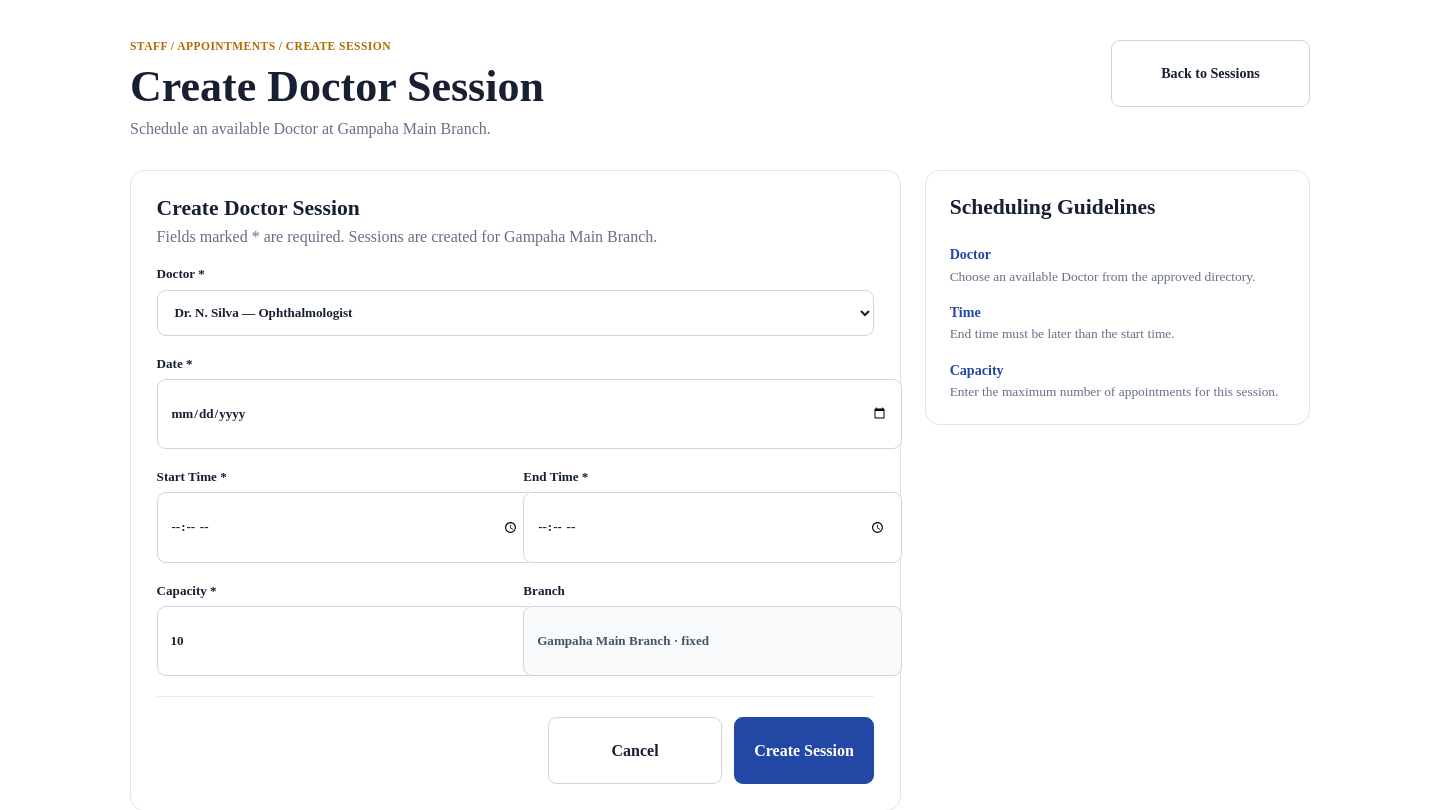
Test: StaffCreateDoctorSessionPage › shows Doctor overlap conflicts without claiming success
This screenshot has width=1440, height=810.
Step 1. Type "2026-10-20" into the date field labelled "Date *" → (529, 414), box 157,379 -> 902,449
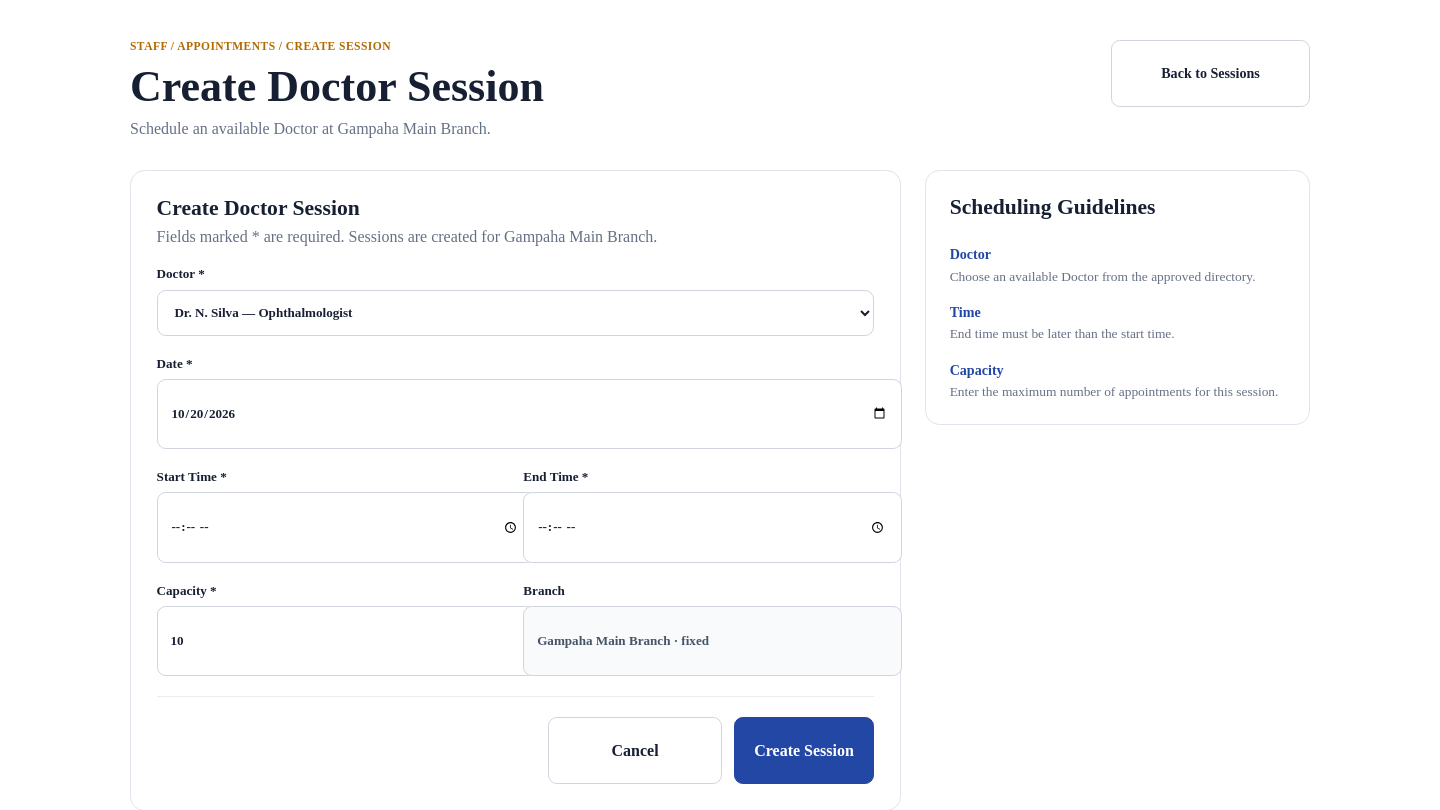
Step 2. Type "13:00" into the time field labelled "Start Time *" → (346, 528), box 157,492 -> 535,563
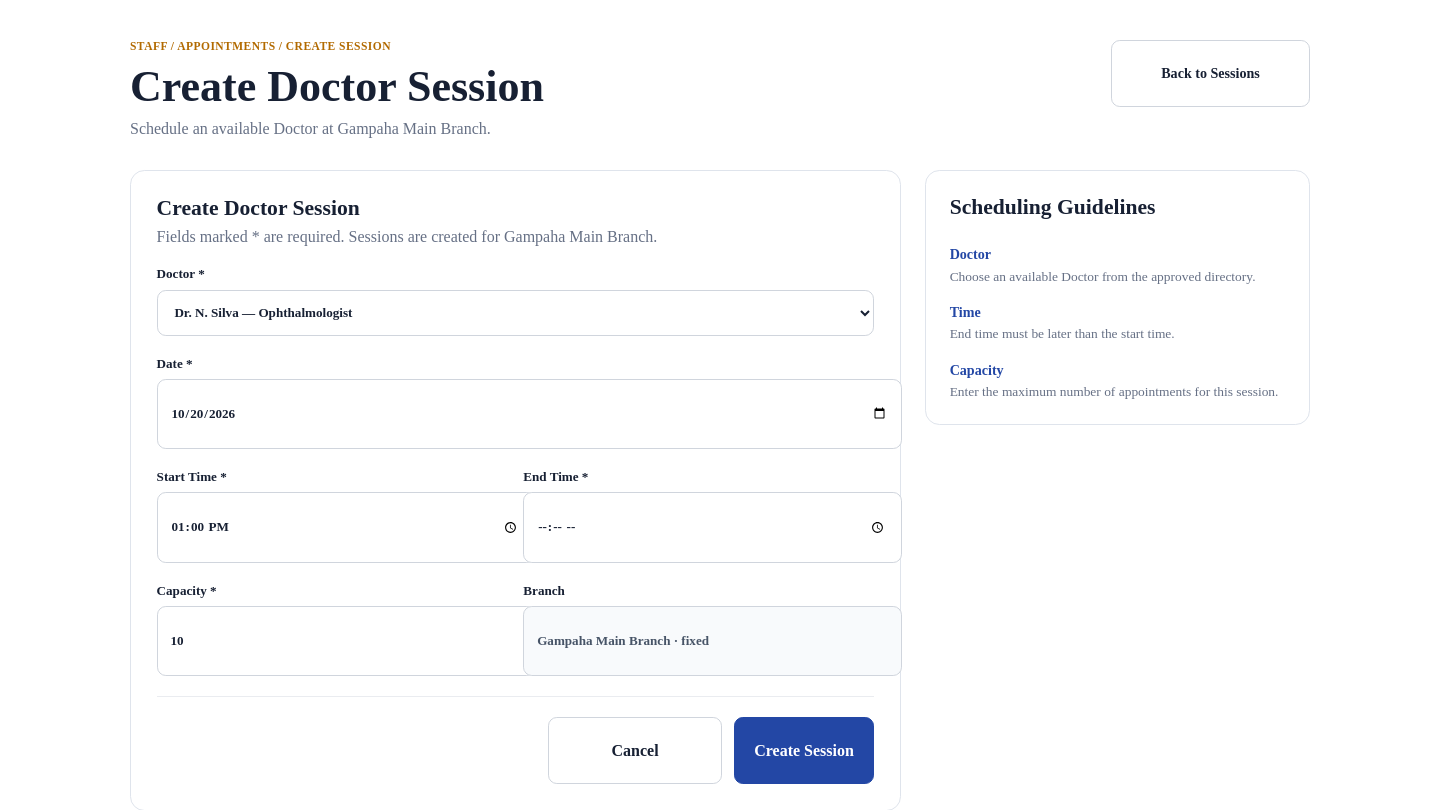
Step 3. Type "14:00" into the time field labelled "End Time *" → (712, 528), box 523,492 -> 902,563
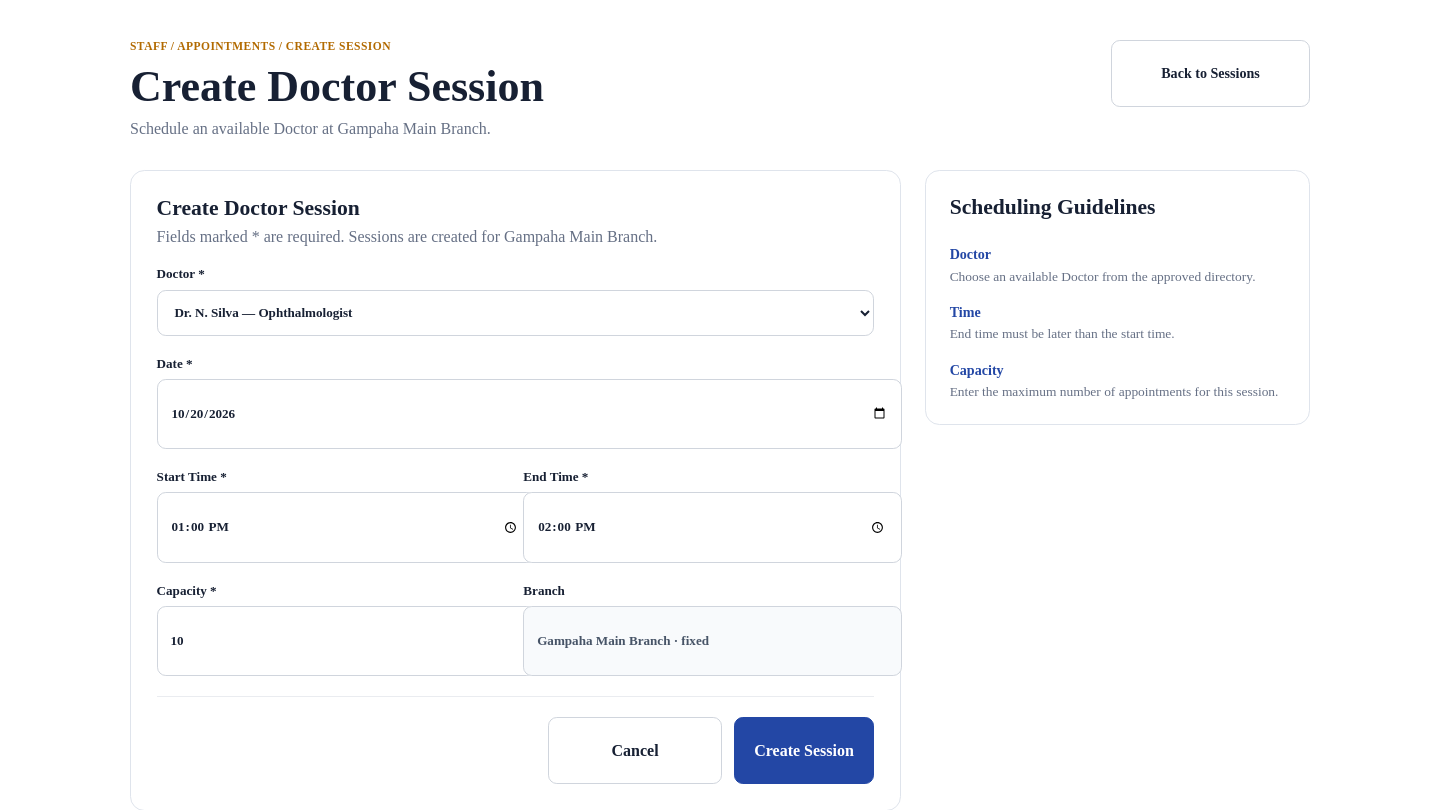
Step 4. Click the button "Create Session" → click(804, 751), box 734,717 -> 874,784
(page scrolled)
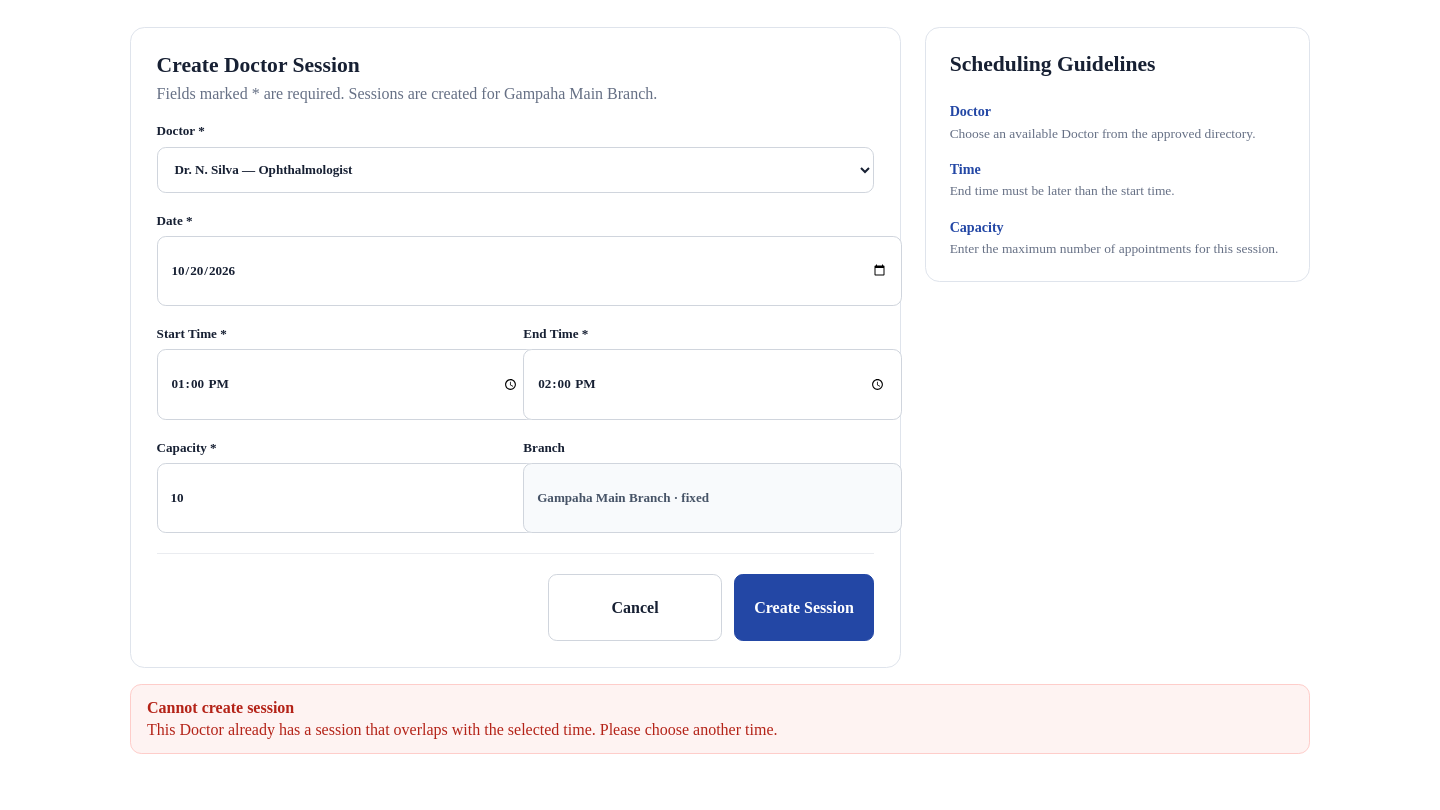
Now the message shows "Cannot create session", box 147,699 -> 294,716
Now the message shows "Doctor already has a session that overlaps", box 147,721 -> 778,738
